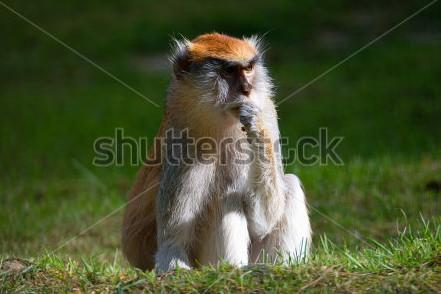monkey: (121, 33, 314, 275)
